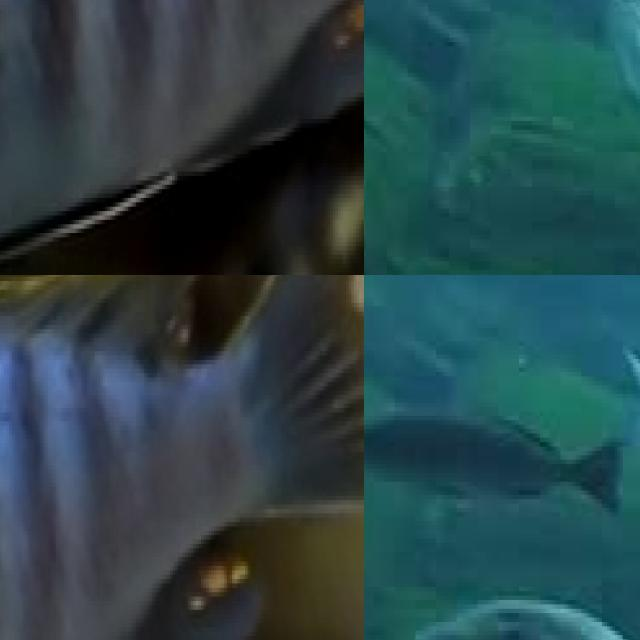fish: (0, 275, 364, 640), (0, 0, 364, 275)
